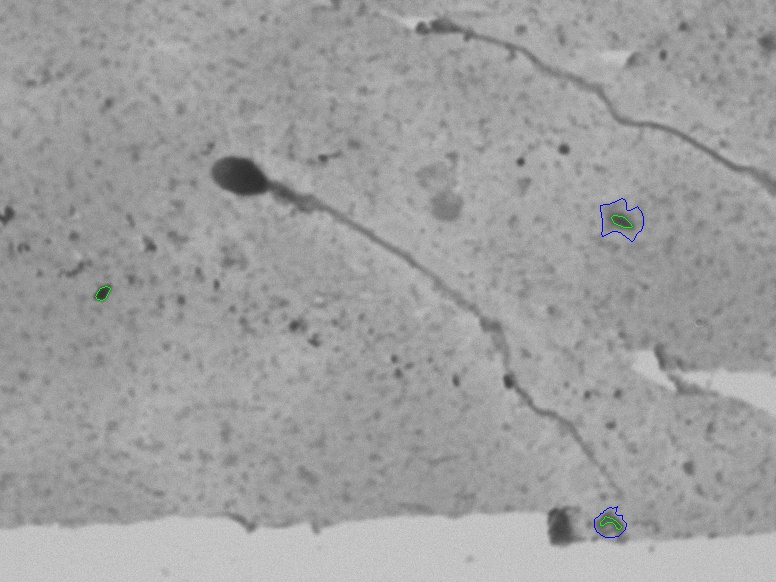Abnormal: (189, 146, 645, 506)
